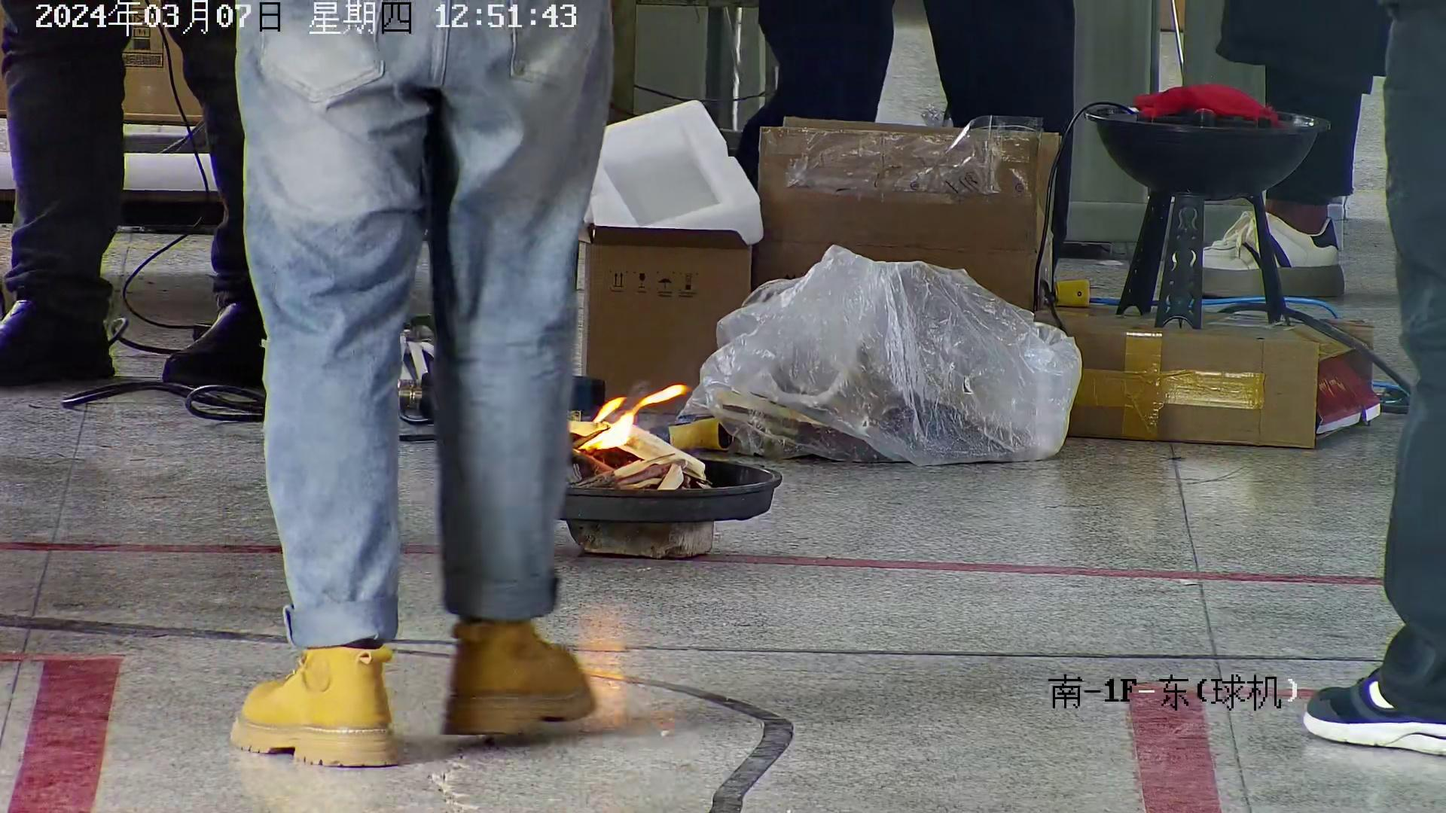fire: (577, 384, 691, 451)
